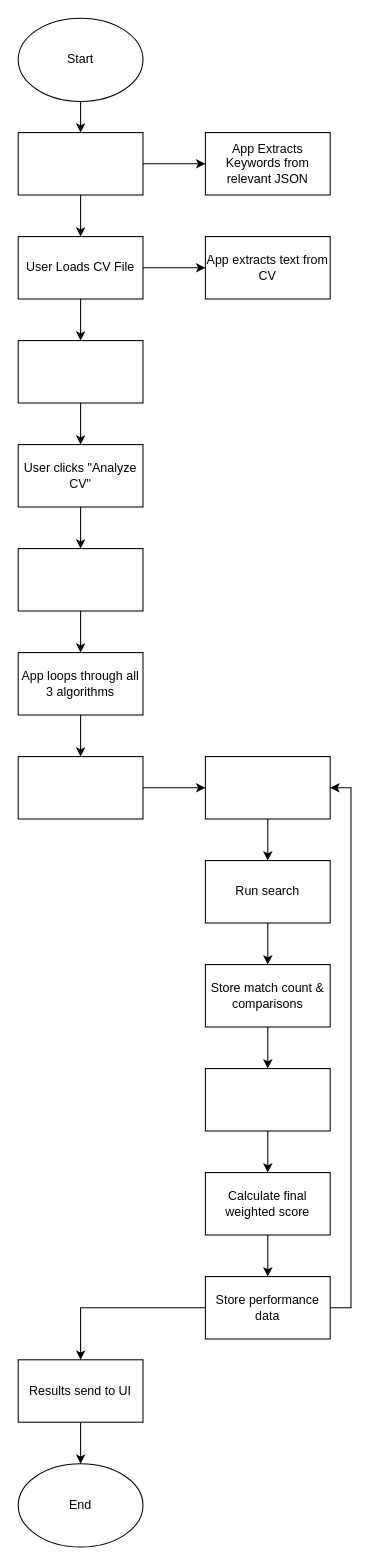
The diagram is 378 pixels wide and 1565 high, and some of its shapes have lost their labels. Here are the shapes that lost their labels. From the top down, the box of each, then its label:
(17, 132, 143, 195): User Selects Job Position
(17, 340, 143, 403): User adjusts scoring options
(17, 548, 143, 611): Main thread starts analysis
(17, 756, 143, 819): For each algorithm
(204, 756, 330, 819): Loop through all keywords
(204, 1068, 330, 1131): End keyword loop
